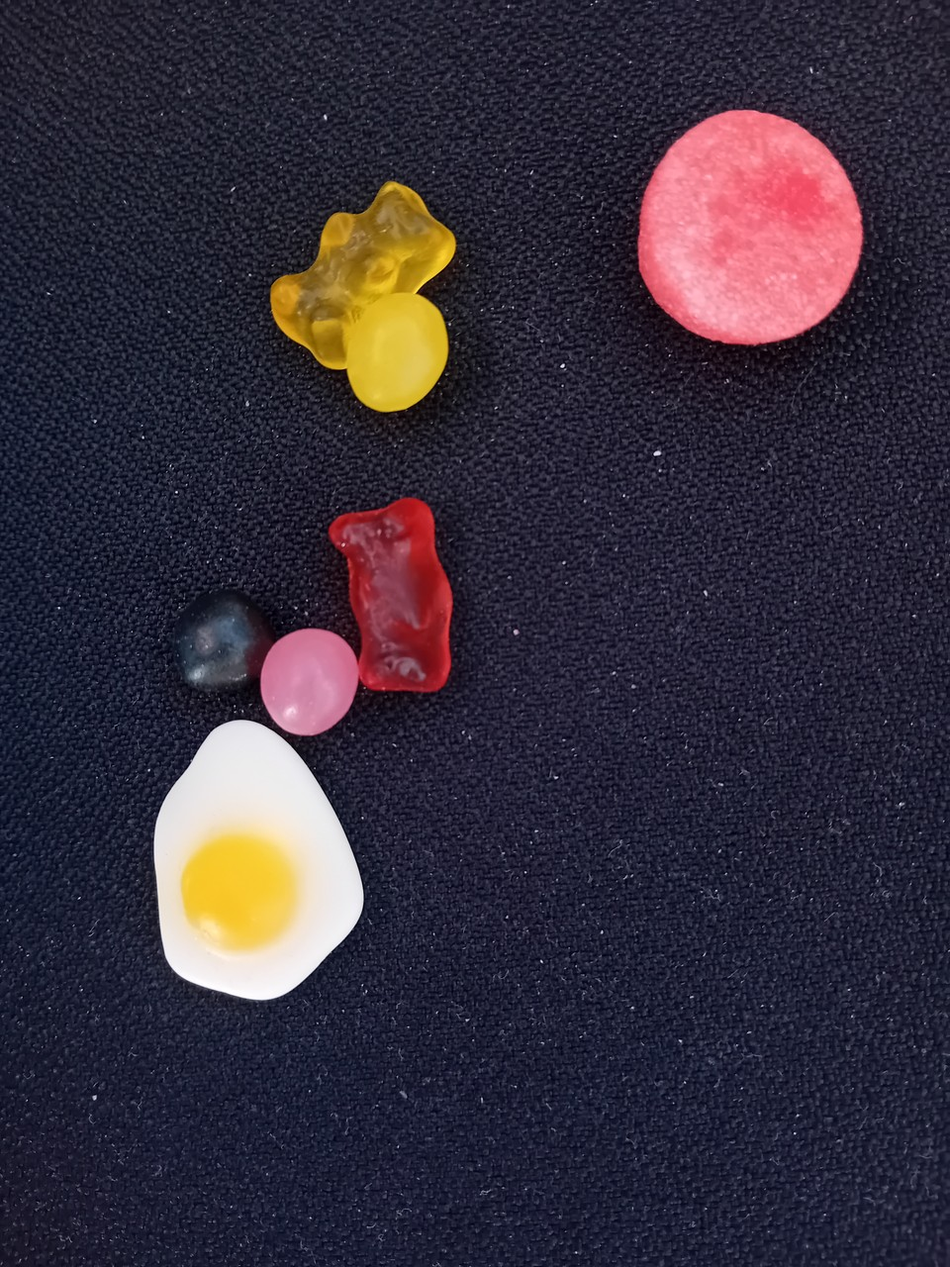dragibus_jaune: (342, 292, 457, 419)
dragibus_noir: (155, 583, 279, 700)
dragibus_rose: (257, 625, 362, 740)
oeuf_oeuf: (137, 711, 374, 1006)
ourson_jaune: (243, 176, 468, 371)
ourson_orangeFonce: (324, 490, 457, 696)
tagada_fraise: (626, 101, 878, 351)
